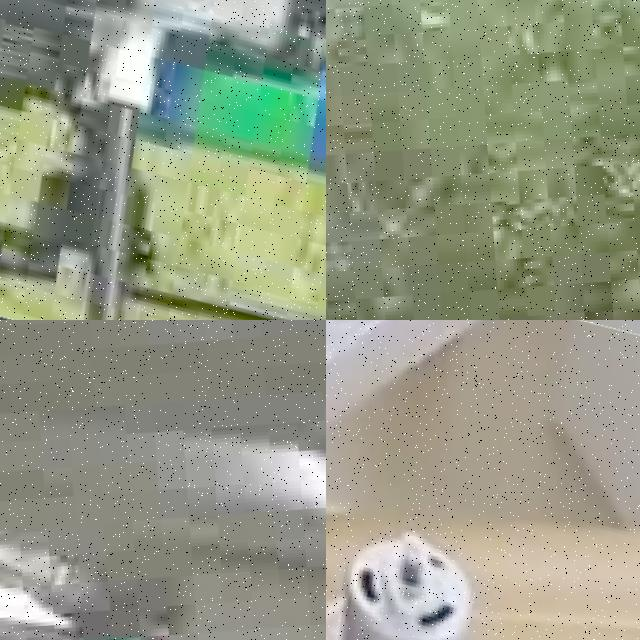0: (0, 0, 326, 320)
drone: (326, 320, 640, 640)
